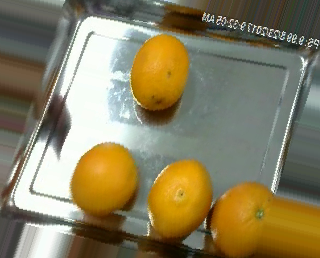Orange: (145, 158, 212, 238), (70, 141, 137, 214), (130, 34, 190, 112)
